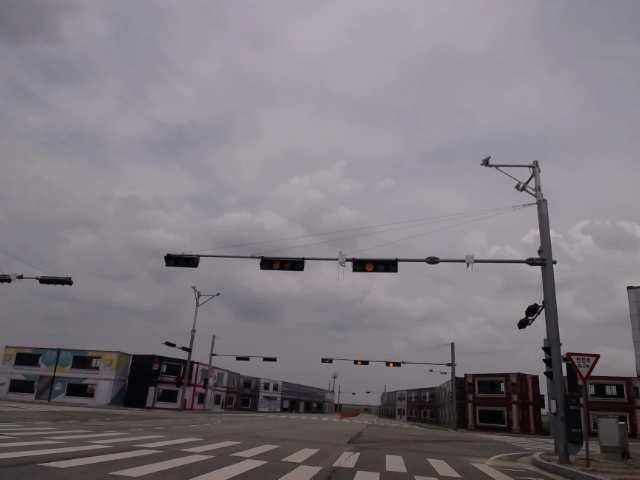orange_4: (353, 256, 399, 273), (260, 255, 305, 272), (385, 360, 403, 368), (352, 359, 370, 365)
